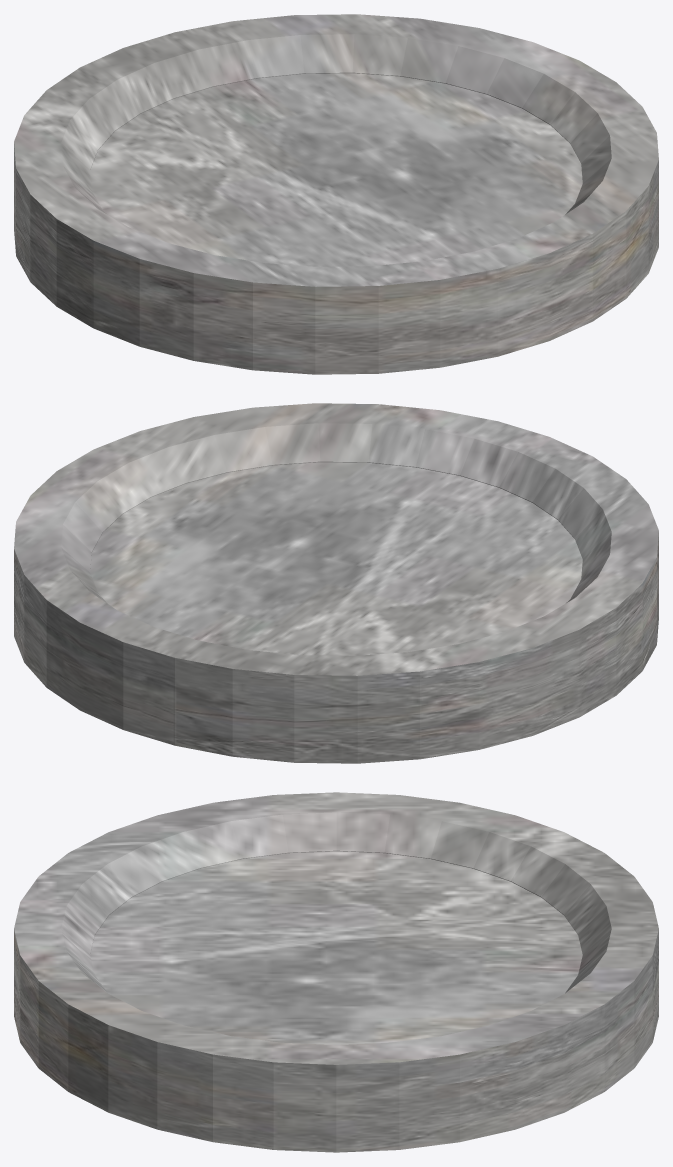
File: pionek_bialas.gltf
The picture shows the model from 3 angles, top to bottom: view 1: azimuth 30°, elevation 25°; view 2: azimuth 150°, elevation 25°; view 3: azimuth 270°, elevation 25°; orthographic projection.
Visible parts, largest first — view 1: Cylinder; view 2: Cylinder; view 3: Cylinder.
Part boxes in pixels (bbox=[...]): Cylinder: bbox=[14, 14, 658, 374]; Cylinder: bbox=[14, 403, 658, 763]; Cylinder: bbox=[14, 792, 658, 1152].
Bounding box in the file's own units: 2 × 0.3 × 2.
Materials: 1 (1 with a texture image).
